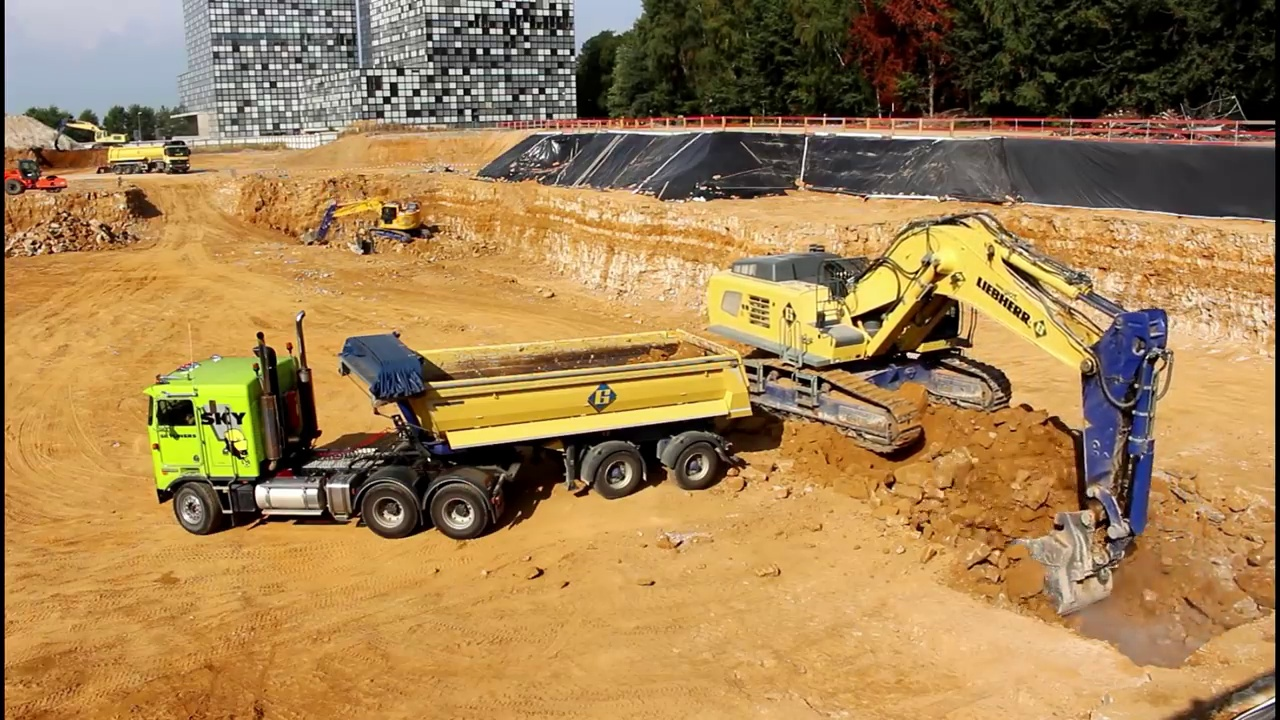compactor: (1, 158, 73, 198)
excavator: (699, 207, 1180, 631), (304, 193, 440, 261), (53, 112, 135, 154)
truck: (135, 303, 760, 548), (104, 136, 195, 179)
